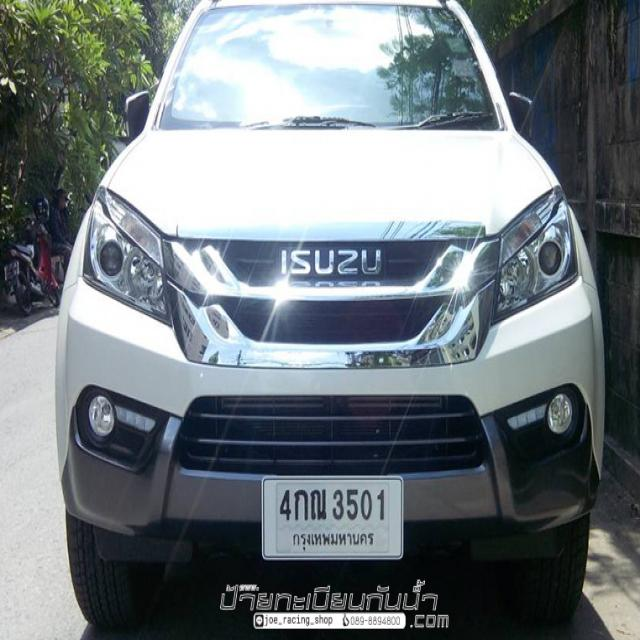license_plate: (261, 474, 405, 564)
